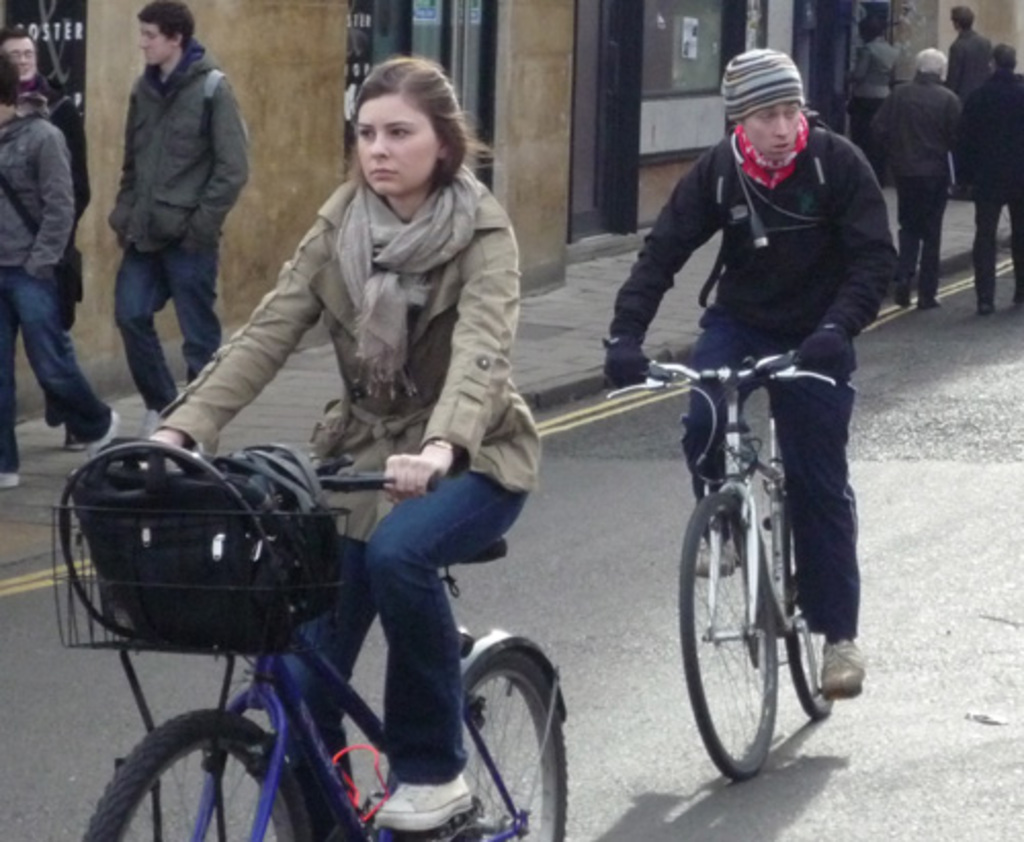Bike_toward: (48, 445, 569, 842)
